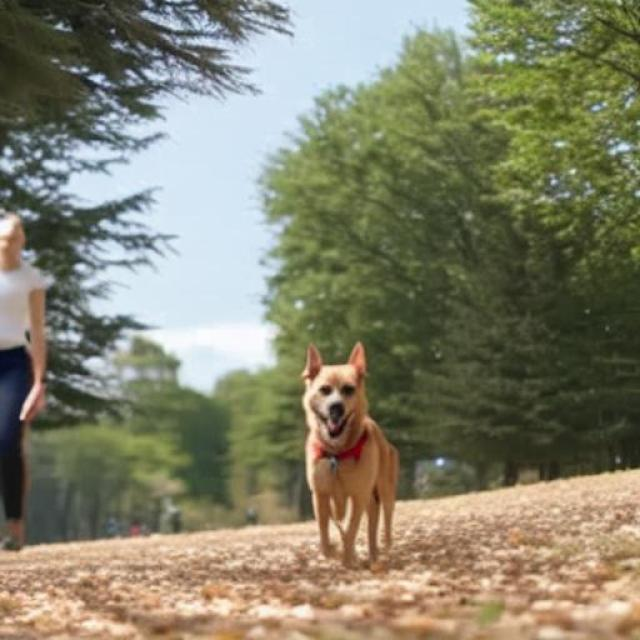Unleashed_Dog: (0, 344, 401, 572)
